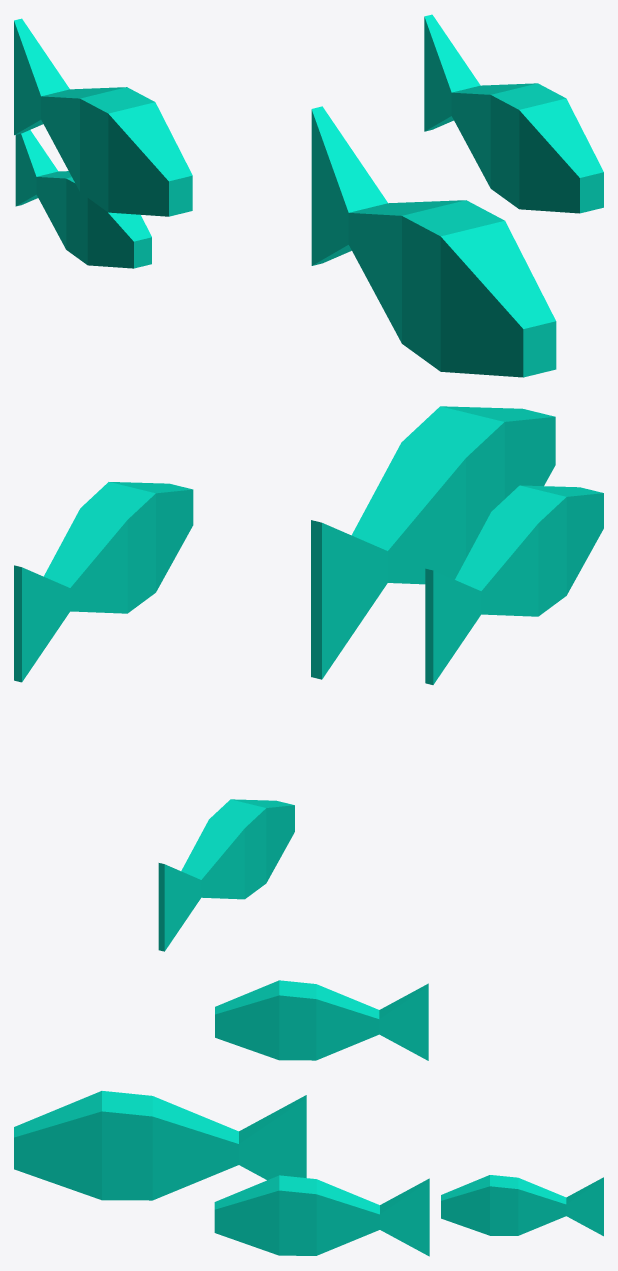
The model's file is SchoolOfFish.fbx.
3 views of the same model, one above another, from view 1: azimuth 30°, elevation 25°; view 2: azimuth 150°, elevation 25°; view 3: azimuth 270°, elevation 25° (orthographic). The views are drawn at different scales.
Parts seen in each view (by area): view 1: Cube, Cube.002, Cube.003, Cube.001; view 2: Cube, Cube.002, Cube.003, Cube.001; view 3: Cube, Cube.002, Cube.003, Cube.001.
Part boxes in pixels (<box>): Cube: <box>311,106,556,377</box>; Cube.002: <box>424,14,603,213</box>; Cube.003: <box>14,18,192,216</box>; Cube.001: <box>15,130,151,268</box>; Cube: <box>311,406,555,679</box>; Cube.002: <box>14,482,193,682</box>; Cube.003: <box>425,485,603,684</box>; Cube.001: <box>158,799,294,951</box>; Cube: <box>14,1091,306,1200</box>; Cube.002: <box>214,1175,429,1256</box>; Cube.003: <box>215,980,428,1060</box>; Cube.001: <box>441,1175,603,1236</box>.
Bounding box in the file's own units: 390 × 258 × 663.
